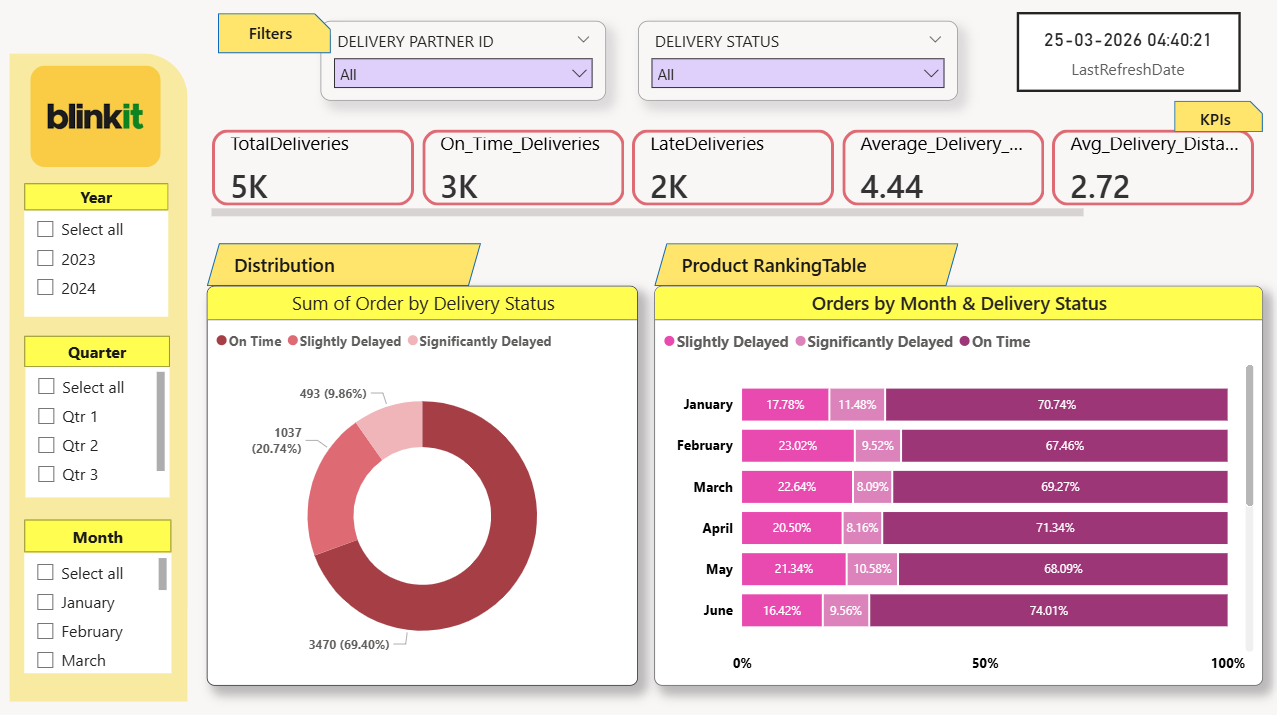

What the dashboard file says about the page in this screenshot:
{"tool":"powerbi","page":{"name":"Delivery Performance Report","canvas":[1280,720],"ordinal":1},"visuals":[{"type":"slicer","fields":{"Values":["blinkit_delivery_performance.delivery_partner_id"]},"box":[322.9,24.3,285.7,80],"z":0},{"type":"shape","box":[11.4,55.7,178.6,648.6],"z":1000},{"type":"cardVisual","fields":{"Data":["DeliveryPerformanceReport.TotalDeliveries","DeliveryPerformanceReport.On_Time_Deliveries","DeliveryPerformanceReport.LateDeliveries","DeliveryPerformanceReport.Average_Delivery_Time","DeliveryPerformanceReport.Avg_Delivery_Distance","DeliveryPerformanceReport.On_Time_Delivery_%"]},"box":[208.6,122.9,1055.7,104.3],"z":2000},{"type":"slicer","fields":{"Values":["DateTable.Date.Variation.Date Hierarchy.Year"]},"box":[25.7,212.9,144.3,107.1],"z":3000},{"type":"slicer","fields":{"Values":["DateTable.Date.Variation.Date Hierarchy.Quarter"]},"box":[27.1,370,144.3,130],"z":4000},{"type":"slicer","fields":{"Values":["DateTable.Date.Variation.Date Hierarchy.Month"]},"box":[25.7,555.7,147.1,120],"z":5000},{"type":"shape","title":"KPI","box":[220,15.7,112.9,40],"z":6000},{"type":"slicer","fields":{"Values":["blinkit_delivery_performance.delivery_status"]},"box":[640,24.3,320,80],"z":7000},{"type":"shape","title":"KPI","box":[208.6,245.7,274.3,42.9],"z":8000},{"type":"shape","title":"KPI","box":[655.7,245.7,304.3,42.9],"z":9000},{"type":"shape","title":"KPI","box":[25.7,185.7,144.3,27.1],"z":10000},{"type":"shape","title":"KPI","box":[25.7,338.6,145.7,31.4],"z":11000},{"type":"shape","title":"KPI","box":[25.7,522.9,147.1,32.9],"z":12000},{"type":"donutChart","title":"Sum of Order by Delivery Status","fields":{"Y":["CountNonNull(blinkit_delivery_performance.order_id)"],"Category":["blinkit_delivery_performance.delivery_status"]},"box":[208.6,288.6,431.4,400],"z":13000},{"type":"hundredPercentStackedBarChart","title":"Orders by Month & Delivery Status","fields":{"Category":["blinkit_delivery_performance.actual_time.Variation.Date Hierarchy.Month"],"Y":["CountNonNull(blinkit_delivery_performance.order_id)"],"Series":["blinkit_delivery_performance.delivery_status"]},"box":[655.7,288.6,608.6,400],"z":14000},{"type":"shape","title":"KPI","box":[1175.7,104.3,88.6,31.4],"z":15000},{"type":"card","fields":{"Values":["Last Refresh.LastRefreshDate"]},"box":[1040,15.7,224.3,80],"z":16000},{"type":"image","box":[27.1,64.3,140,111.4],"z":17000}]}

Visuals, with their boxes in screenshot pixels (x1, y1, x2, y2), scaled from the page's 1280x720 canvas onto the 1277x715 screenshot:
slicer - blinkit_delivery_performance.delivery_partner_id: [322,24,607,104]
shape: [11,55,190,699]
cardVisual - DeliveryPerformanceReport.TotalDeliveries x DeliveryPerformanceReport.On_Time_Deliveries: [208,122,1261,226]
slicer - DateTable.Date.Variation.Date Hierarchy.Year: [26,211,170,318]
slicer - DateTable.Date.Variation.Date Hierarchy.Quarter: [27,367,171,497]
slicer - DateTable.Date.Variation.Date Hierarchy.Month: [26,552,172,671]
"KPI" shape: [219,16,332,55]
slicer - blinkit_delivery_performance.delivery_status: [638,24,958,104]
"KPI" shape: [208,244,482,287]
"KPI" shape: [654,244,958,287]
"KPI" shape: [26,184,170,211]
"KPI" shape: [26,336,171,367]
"KPI" shape: [26,519,172,552]
"Sum of Order by Delivery Status" donutChart: [208,287,638,684]
"Orders by Month & Delivery Status" hundredPercentStackedBarChart: [654,287,1261,684]
"KPI" shape: [1173,104,1261,135]
card - Last Refresh.LastRefreshDate: [1038,16,1261,95]
image: [27,64,167,174]
